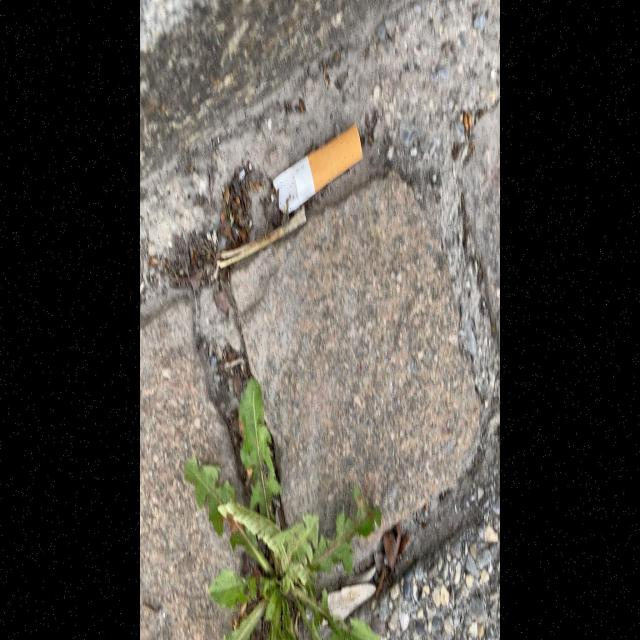other waste: (270, 120, 364, 216)
